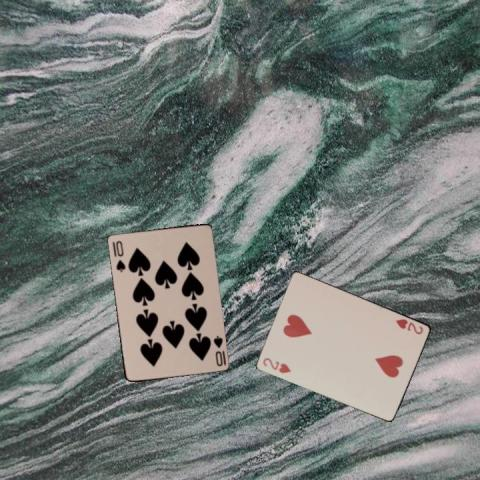10s: (112, 237, 126, 273), (210, 333, 224, 367)
2h: (260, 354, 293, 374), (393, 316, 425, 336)
